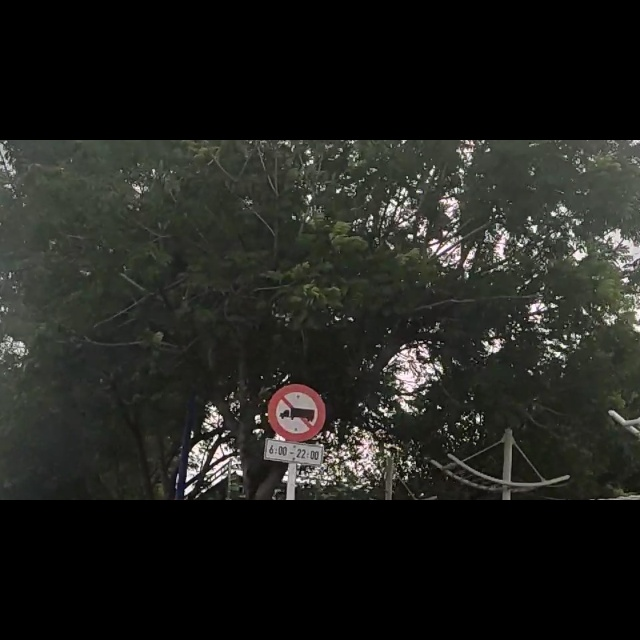bien_cam: (263, 435, 327, 574)
